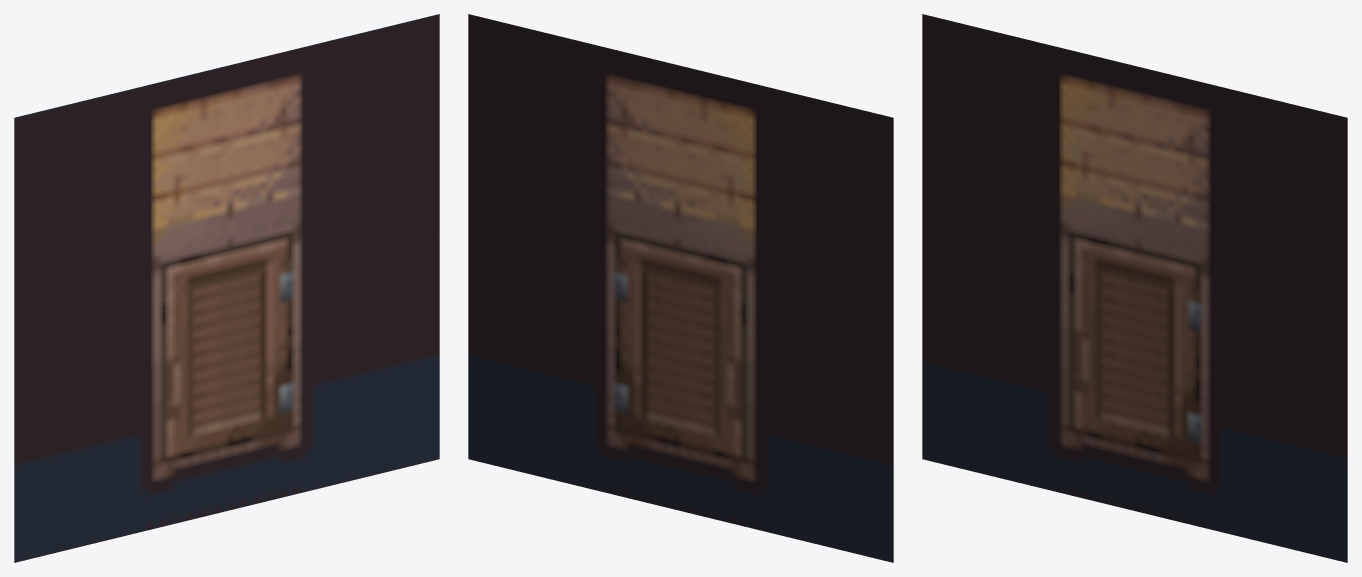
File: Cupboard.glb
The picture shows the model from 3 angles, left to right: view 1: azimuth 30°, elevation 25°; view 2: azimuth 150°, elevation 25°; view 3: azimuth 330°, elevation 25°; orthographic projection.
Visible parts, largest first — view 1: pPlane1; view 2: pPlane1; view 3: pPlane1.
Boxes of the visible parts, x1,y1,x2,y2 form: pPlane1: (14,14,439,562); pPlane1: (468,14,893,562); pPlane1: (922,14,1347,562).
Bounding box in the file's own units: 2 × 2 × 0.
1 material, 1 textured.
